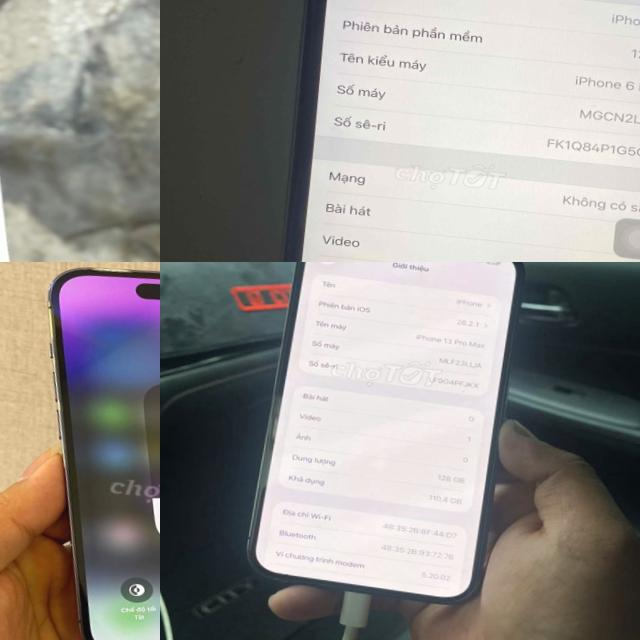gen_12_13: (234, 262, 538, 615), (0, 92, 71, 262)
gen_14: (1, 262, 160, 640)
gen_6: (246, 0, 640, 262)
